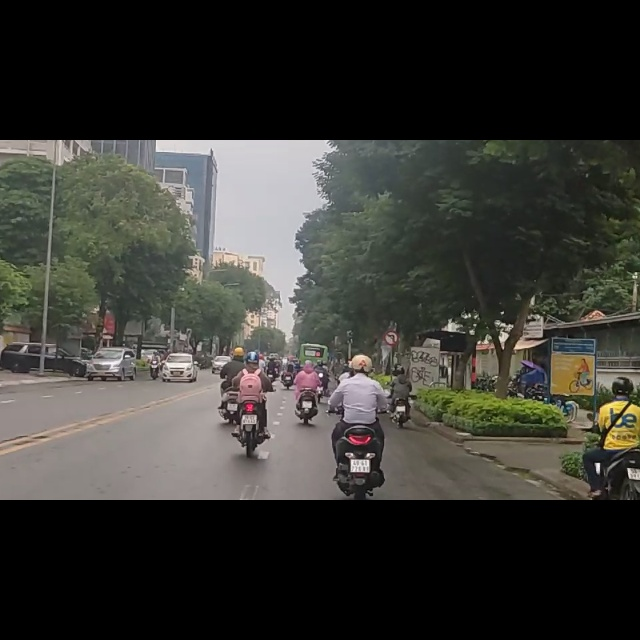bien_cam: (385, 339, 401, 365)
